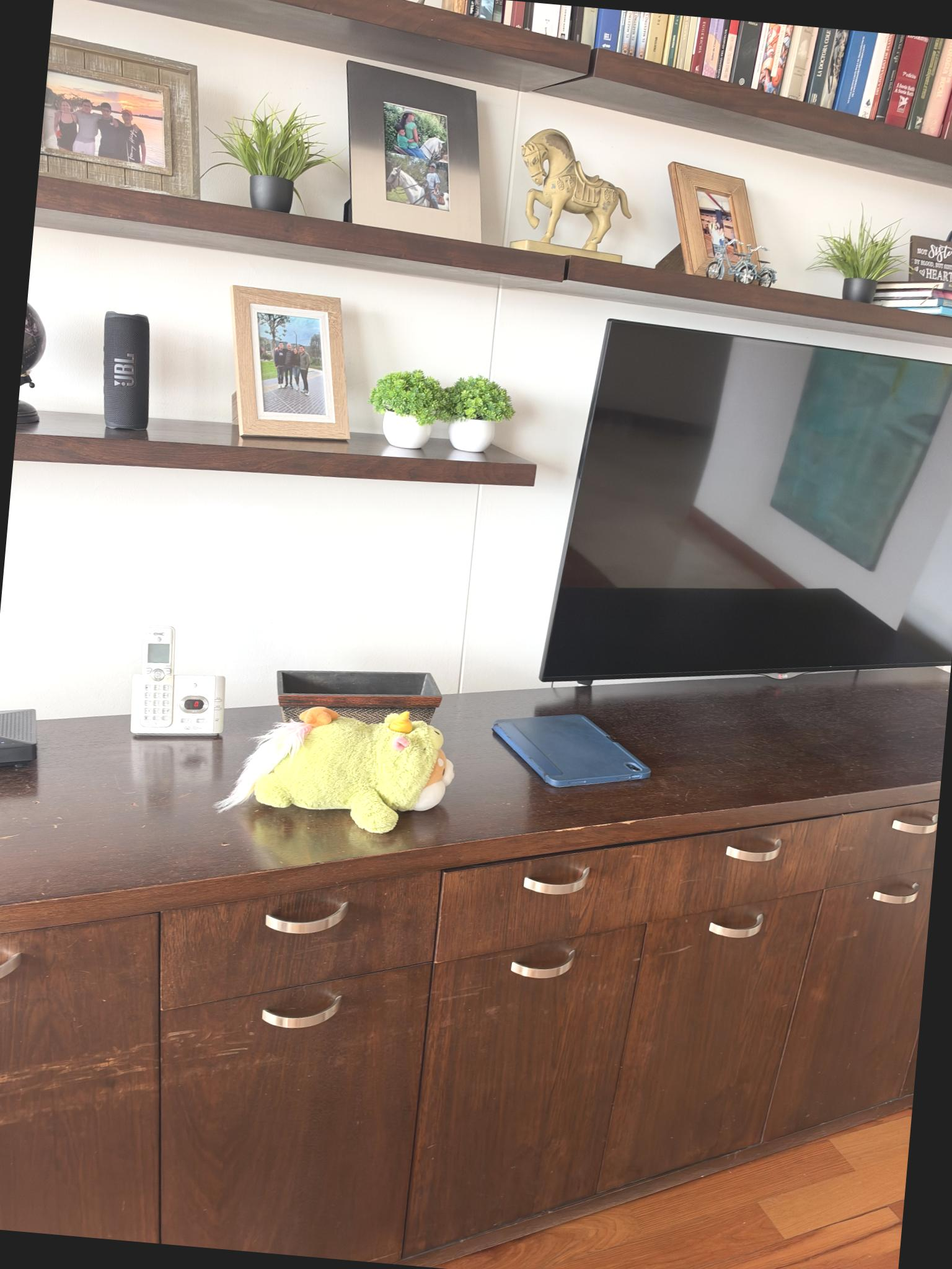peluche_martin: (211, 694, 460, 841)
